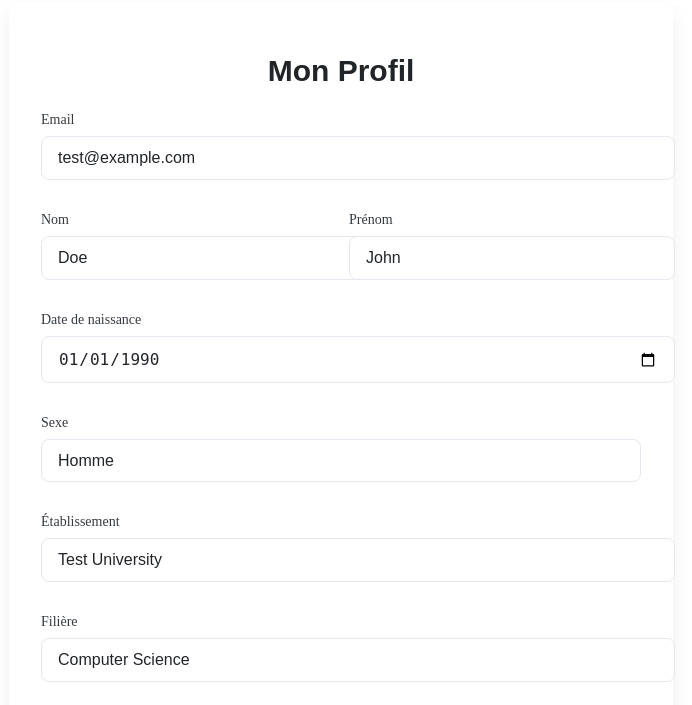
it: ProfilePage › submits updated profile data and shows success message
Expected: the field labelled "Email" is shown, [41,136,675,180]
Replace the text in the field labelled "Nom" with "UpdatedNom" at point(204, 258), box [41,236,367,280]
(page scrolled)
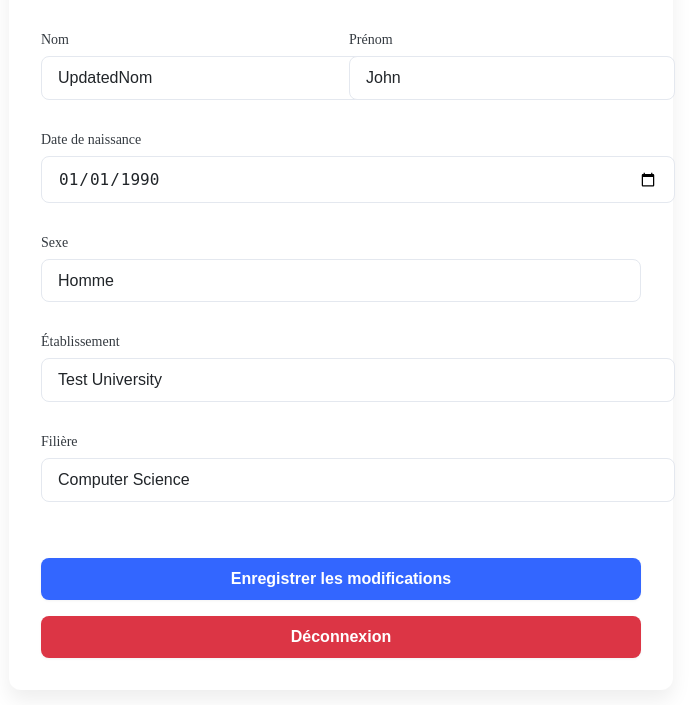
Click the button "Enregistrer les modifications".
click(341, 579)  # box [41,558,641,600]
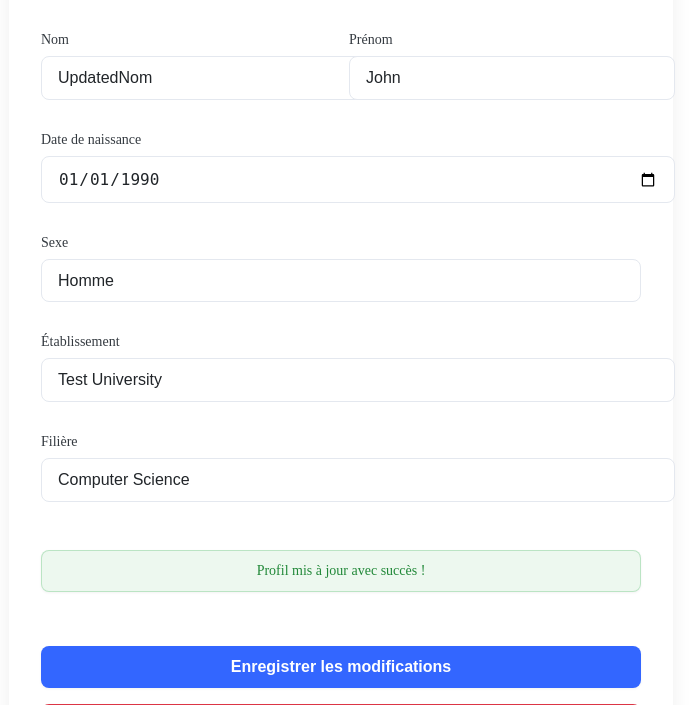
Expected: the text "Profil mis à jour avec succès !" is shown, [41,550,641,592]
